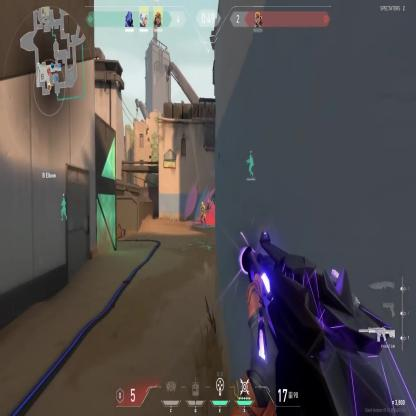enemy: (200, 201, 206, 227)
enemy_head: (201, 202, 204, 206)
